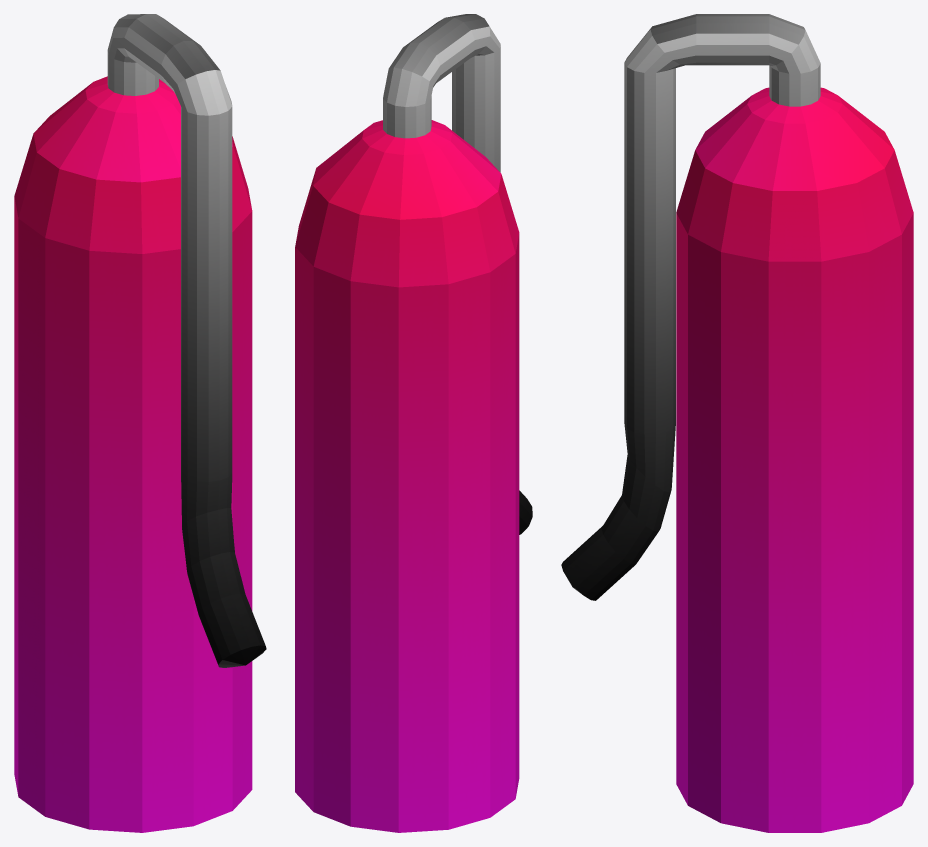
Rendered from fire_extinguisher.glb.
The picture shows the model from 3 angles, left to right: view 1: azimuth 30°, elevation 25°; view 2: azimuth 150°, elevation 25°; view 3: azimuth 270°, elevation 25°; orthographic projection. The views are drawn at different scales.
Parts seen in each view (by area): view 1: fire_extinguisher; view 2: fire_extinguisher; view 3: fire_extinguisher.
Part boxes in pixels (box(x1,y1,x2,y2)): fire_extinguisher: box(14, 14, 266, 832); fire_extinguisher: box(295, 14, 532, 832); fire_extinguisher: box(561, 14, 913, 832).
Size of the model in its own units: 0.3329 by 1.22 by 0.5068.
Materials: 1 (1 with a texture image).
